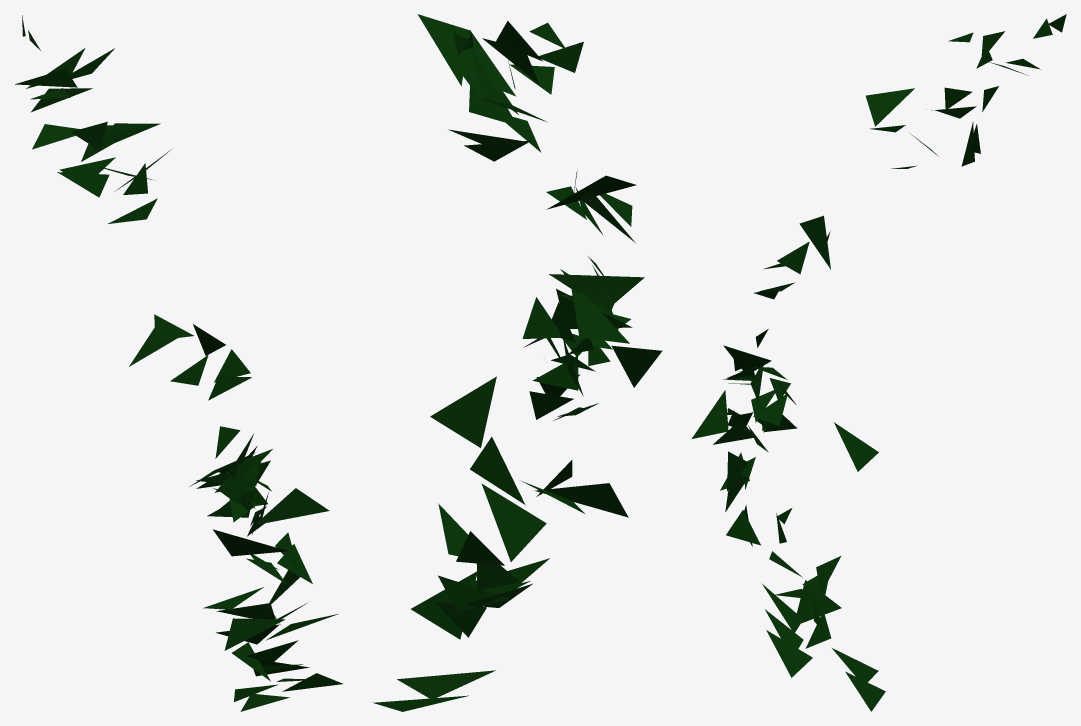
File: 13_openskp_material_63.001.obj
The picture shows the model from 3 angles, left to right: view 1: azimuth 30°, elevation 25°; view 2: azimuth 150°, elevation 25°; view 3: azimuth 270°, elevation 25°; orthographic projection. The views are drawn at different scales.
Parts seen in each view (by area): view 1: 13_openskp_material_63.001; view 2: 13_openskp_material_63.001; view 3: 13_openskp_material_63.001.
Boxes of the visible parts, x1,y1,x2,y2 form: 13_openskp_material_63.001: (15, 15, 342, 711); 13_openskp_material_63.001: (373, 14, 662, 711); 13_openskp_material_63.001: (691, 14, 1066, 711).
Bounding box in the file's own units: 3.43 × 9.7 × 5.32.
